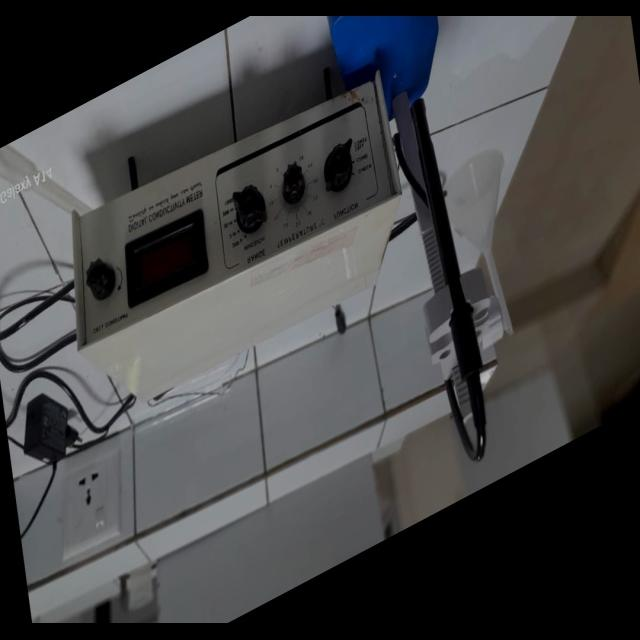Conductivity Meter: (58, 16, 477, 411)
